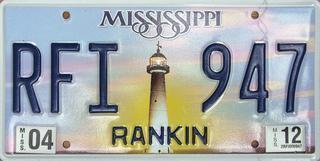placa de veiculo: (9, 3, 319, 158)
